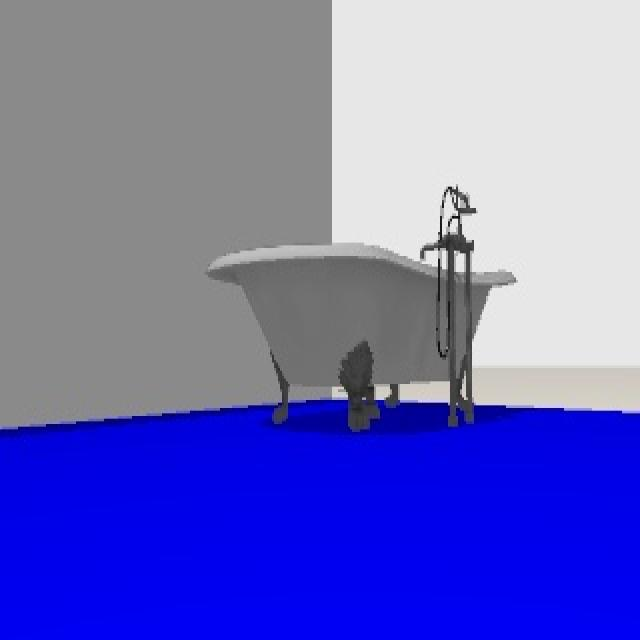bathtub: (207, 183, 516, 427)
